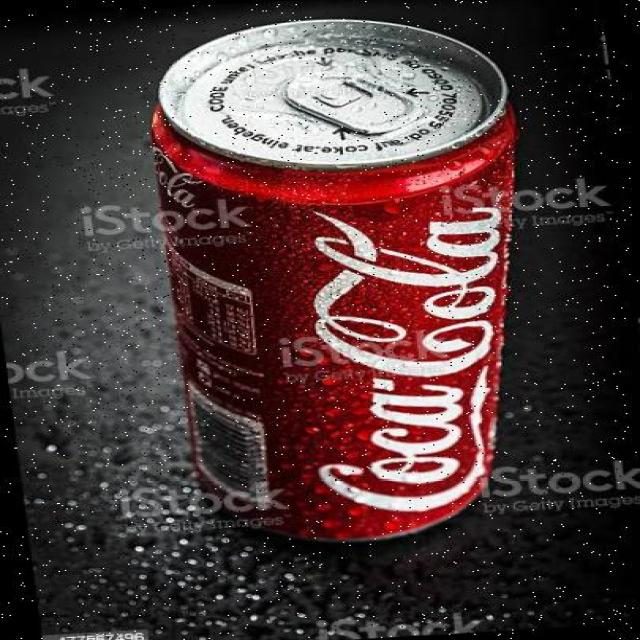coca-cola: (119, 0, 574, 561)
